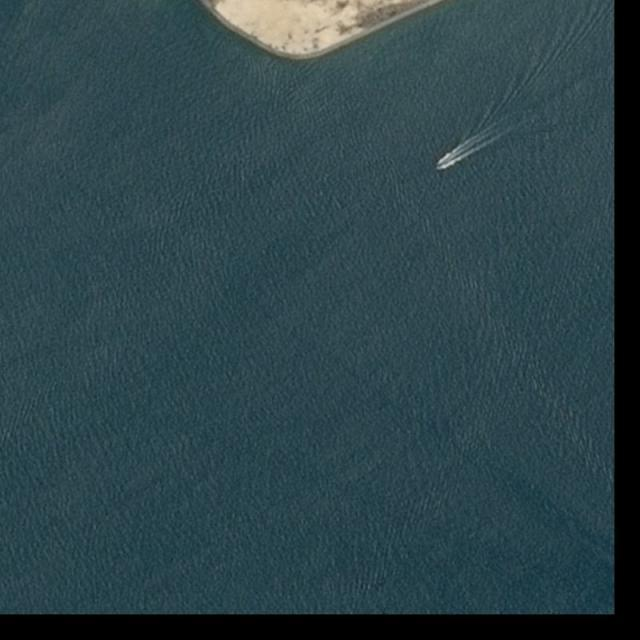ship: (434, 161, 446, 170)
